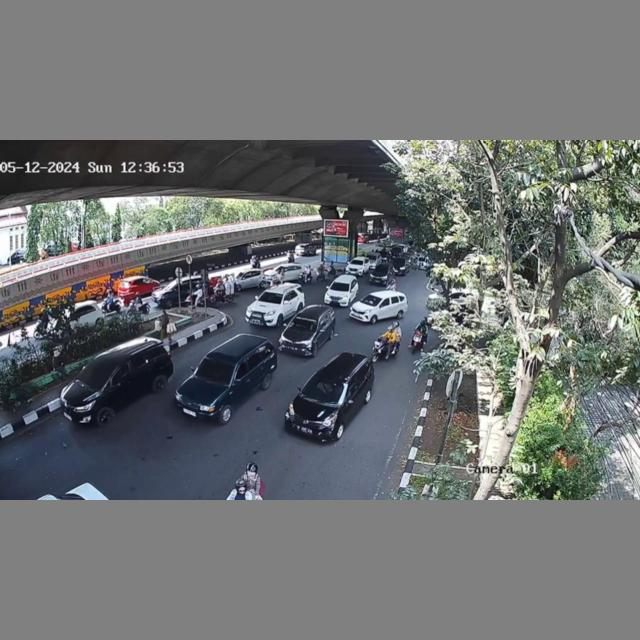windshield: (303, 377, 345, 405), (197, 354, 236, 384), (290, 315, 317, 333), (256, 289, 283, 304)
